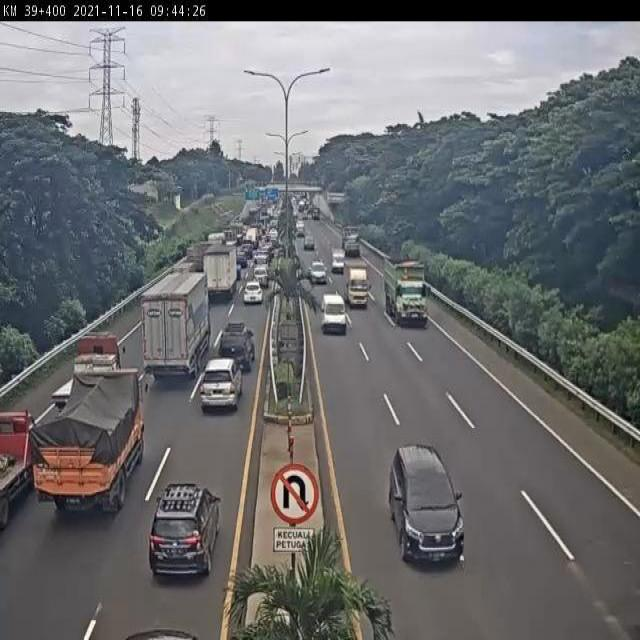car: (373, 436, 482, 576), (148, 478, 221, 582), (201, 353, 244, 415), (220, 317, 259, 376), (319, 291, 353, 344), (304, 257, 338, 292), (244, 277, 267, 308)
small truck: (0, 404, 50, 528)
truck-l-: (143, 272, 212, 383), (385, 266, 436, 334)
truck-m-: (33, 365, 150, 527), (46, 333, 127, 415), (202, 243, 239, 304), (341, 264, 370, 309)
